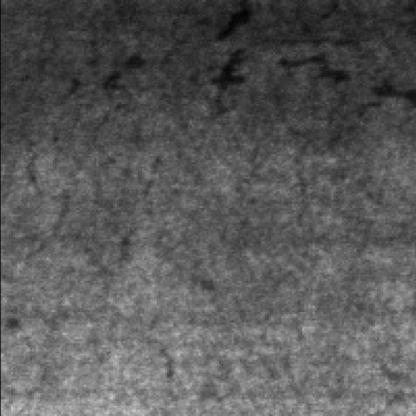crazing: (31, 140, 183, 378), (275, 56, 391, 166)
